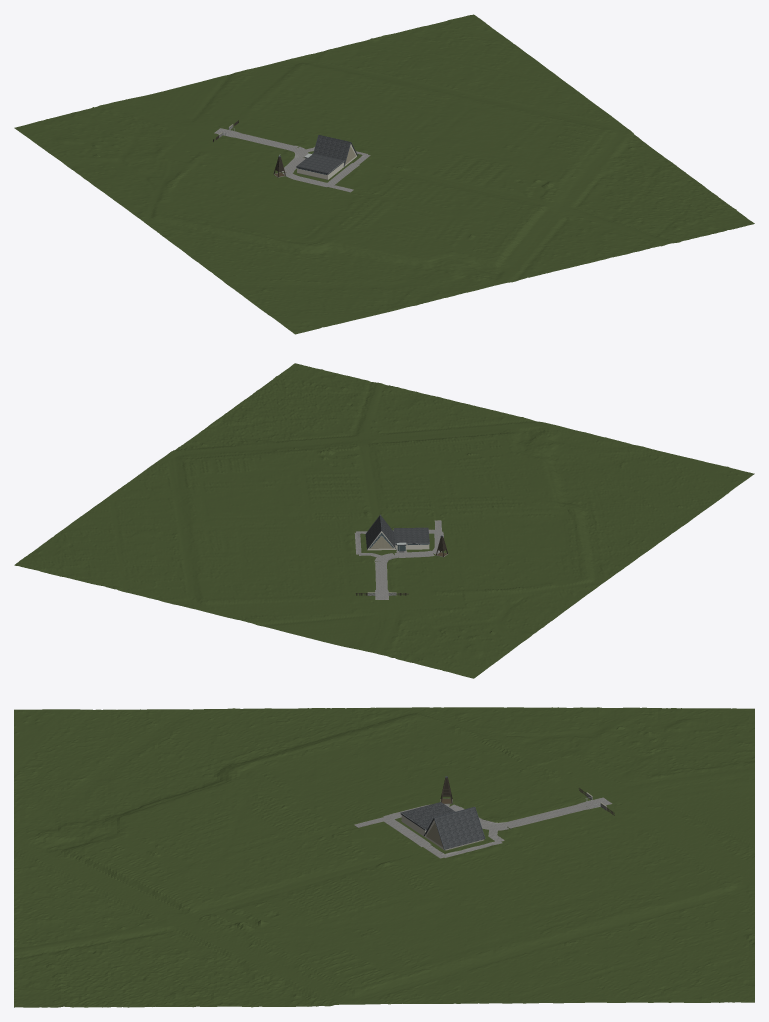
Rendered from entrance-hall.glb.
3 renders of one model, top to bottom at view 1: azimuth 30°, elevation 25°; view 2: azimuth 150°, elevation 25°; view 3: azimuth 270°, elevation 25°, orthographic. The views are drawn at different scales.
Parts seen in each view (by area): view 1: grass, paving, slate; view 2: grass, paving, slate; view 3: grass, paving, slate.
Boxes of the visible parts, x1,y1,x2,y2 form: grass: [14, 14, 754, 334]; paving: [214, 128, 369, 192]; slate: [296, 135, 356, 173]; grass: [14, 363, 754, 678]; paving: [355, 520, 443, 599]; slate: [365, 516, 429, 548]; grass: [14, 707, 754, 1007]; paving: [354, 797, 611, 858]; slate: [401, 802, 484, 849].
Size of the model in its own units: 238 by 12.8 by 252.
13 materials, 9 textured.
